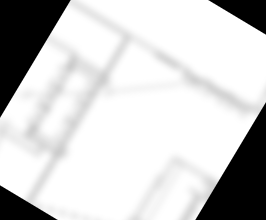door: (199, 178, 216, 195), (263, 72, 266, 95)
double door: (224, 97, 251, 120), (202, 83, 228, 106), (180, 70, 206, 93), (76, 80, 99, 106), (49, 63, 72, 89), (39, 83, 60, 108), (27, 104, 48, 128), (54, 119, 74, 143), (66, 101, 85, 124)
